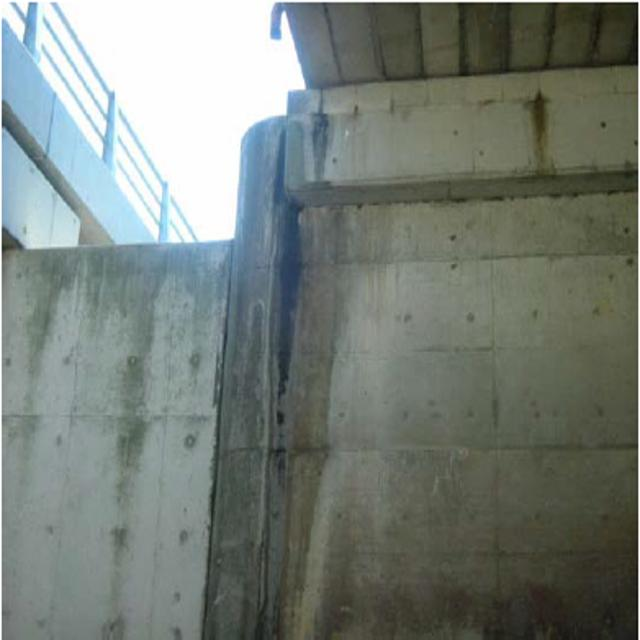leakage: (236, 137, 343, 640)
